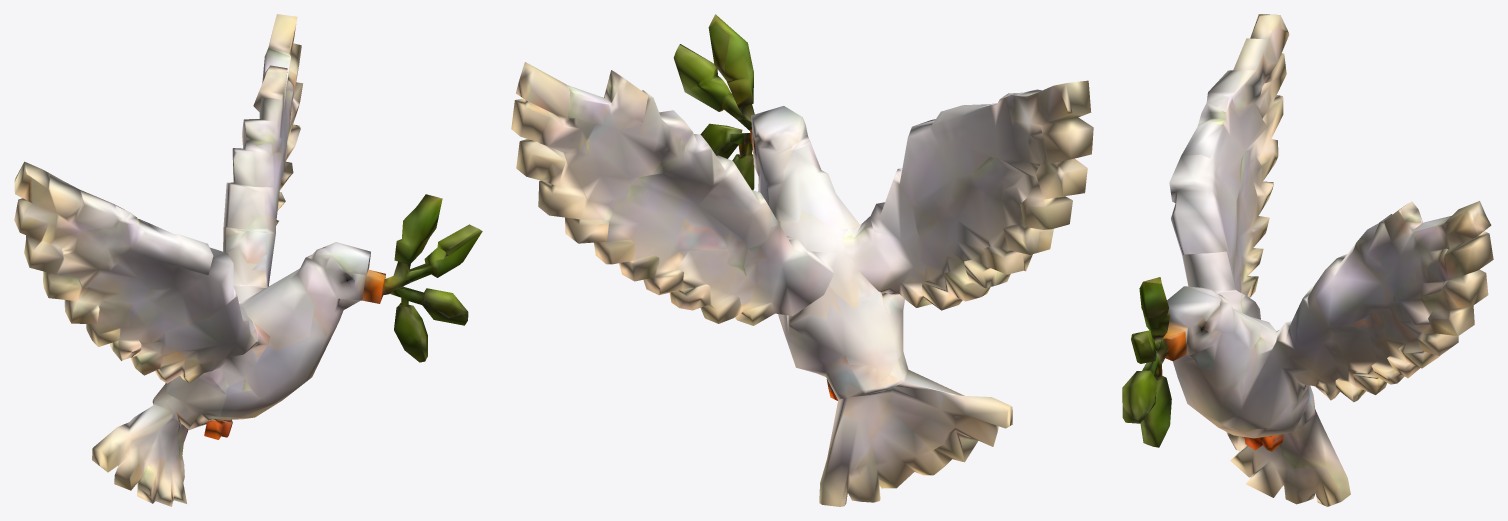
File: dove.glb
The picture shows the model from 3 angles, left to right: view 1: azimuth 30°, elevation 25°; view 2: azimuth 150°, elevation 25°; view 3: azimuth 270°, elevation 25°; orthographic projection. The views are drawn at different scales.
Visible parts, largest first — view 1: tripo_node_5d87aa2c-f713-4077-b0ed-42d29ac2d86a; view 2: tripo_node_5d87aa2c-f713-4077-b0ed-42d29ac2d86a; view 3: tripo_node_5d87aa2c-f713-4077-b0ed-42d29ac2d86a.
Boxes of the visible parts, x1=… form: tripo_node_5d87aa2c-f713-4077-b0ed-42d29ac2d86a: x1=14, y1=14, x2=482, y2=506; tripo_node_5d87aa2c-f713-4077-b0ed-42d29ac2d86a: x1=511, y1=14, x2=1093, y2=506; tripo_node_5d87aa2c-f713-4077-b0ed-42d29ac2d86a: x1=1122, y1=14, x2=1493, y2=506.
Size of the model in its own units: 0.9787 by 0.8773 by 0.728.
Materials: 1 (1 with a texture image).
